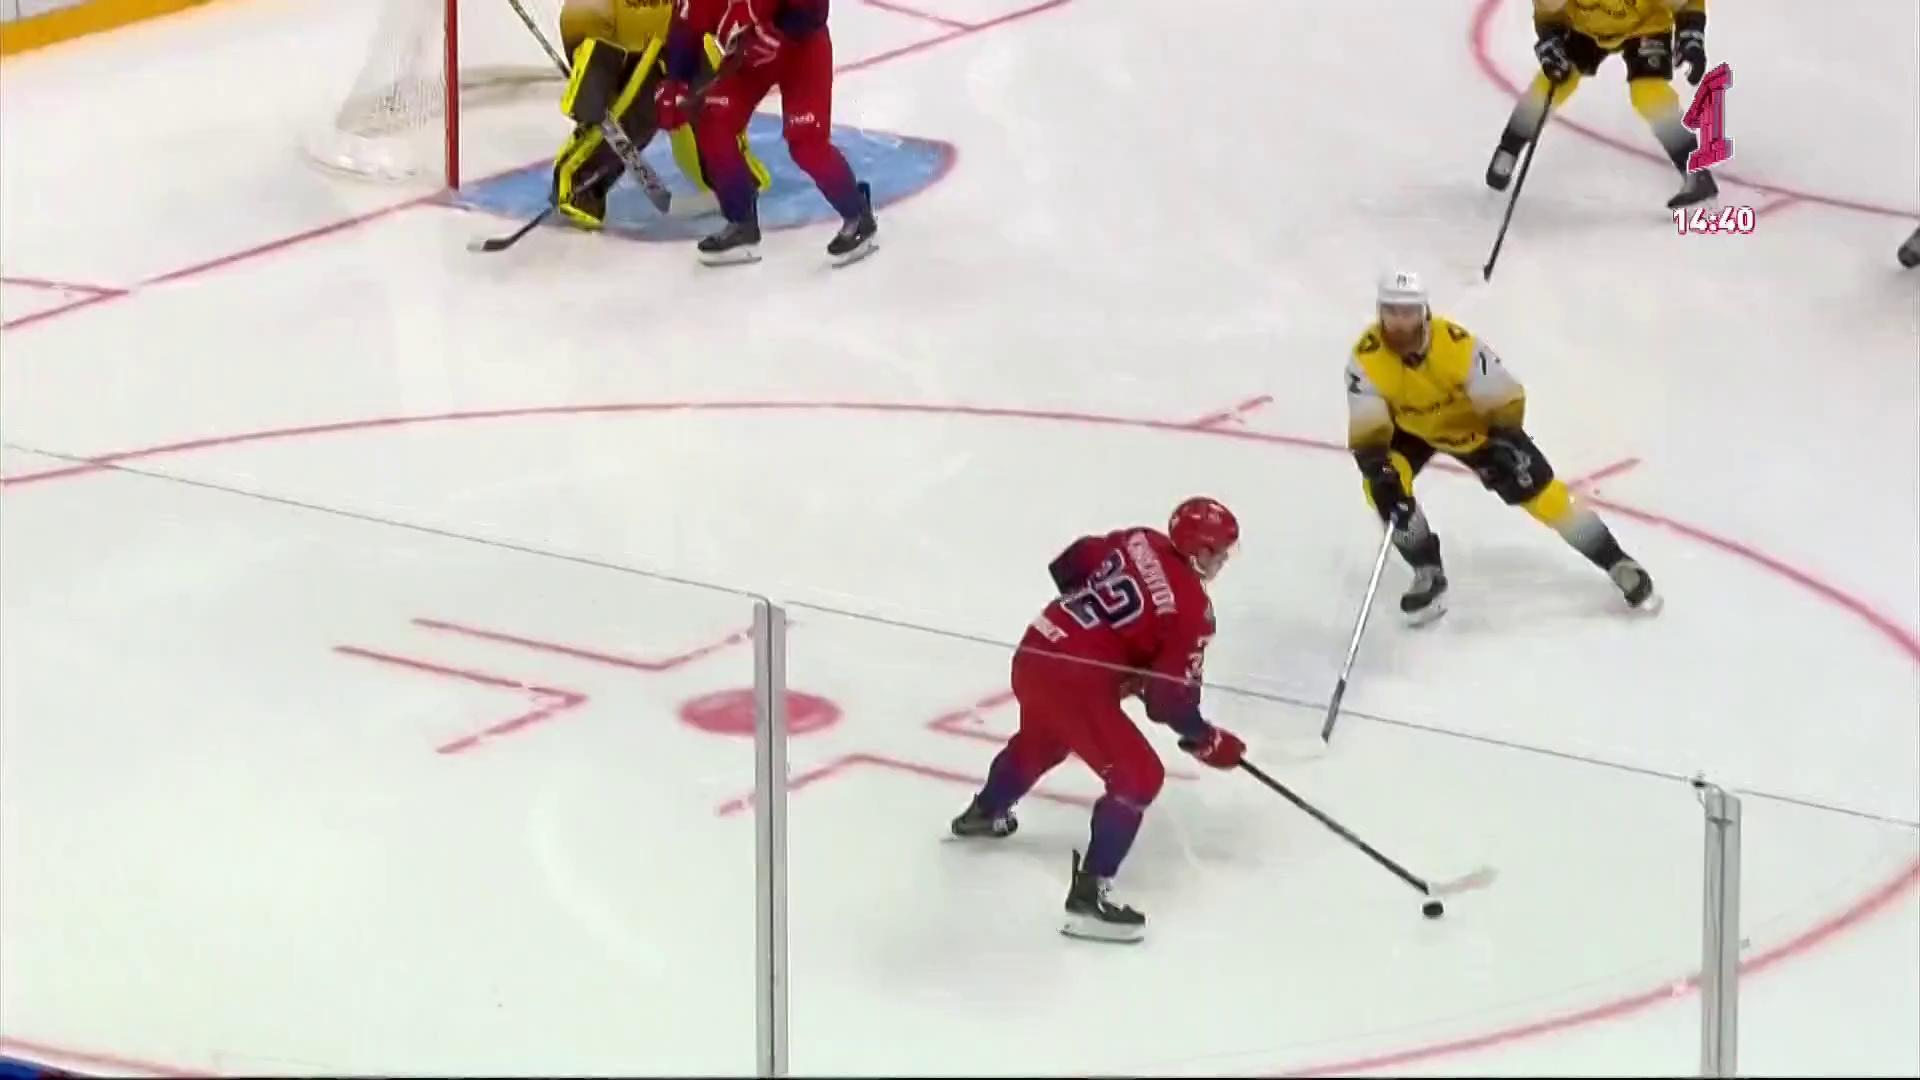ball: (1422, 902, 1445, 919)
